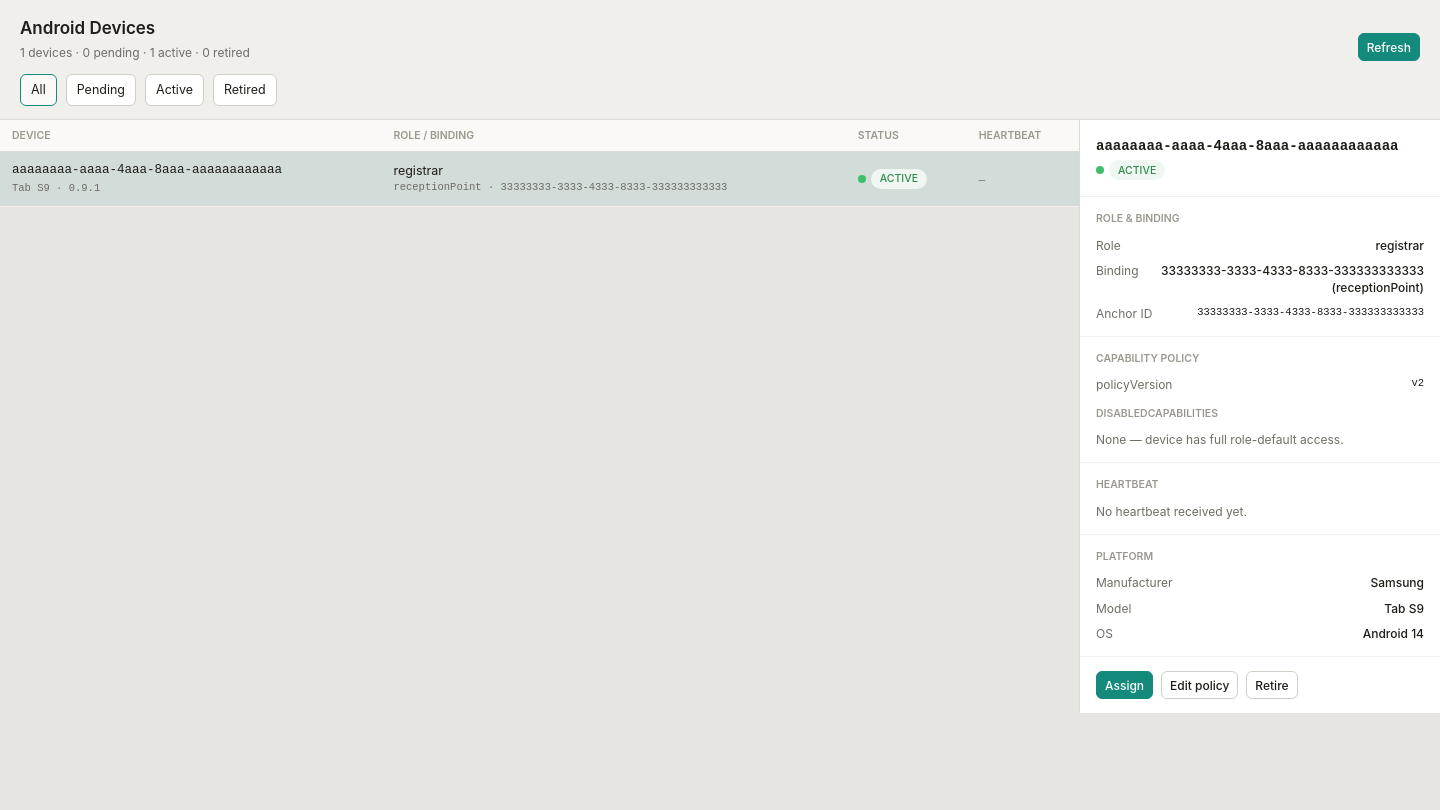
Test: device commands · mock mode › does not touch the network and mutates the local snapshot
This screenshot has width=1440, height=810.
Click the button "Retire": (1272, 685) [1246,671,1298,699]
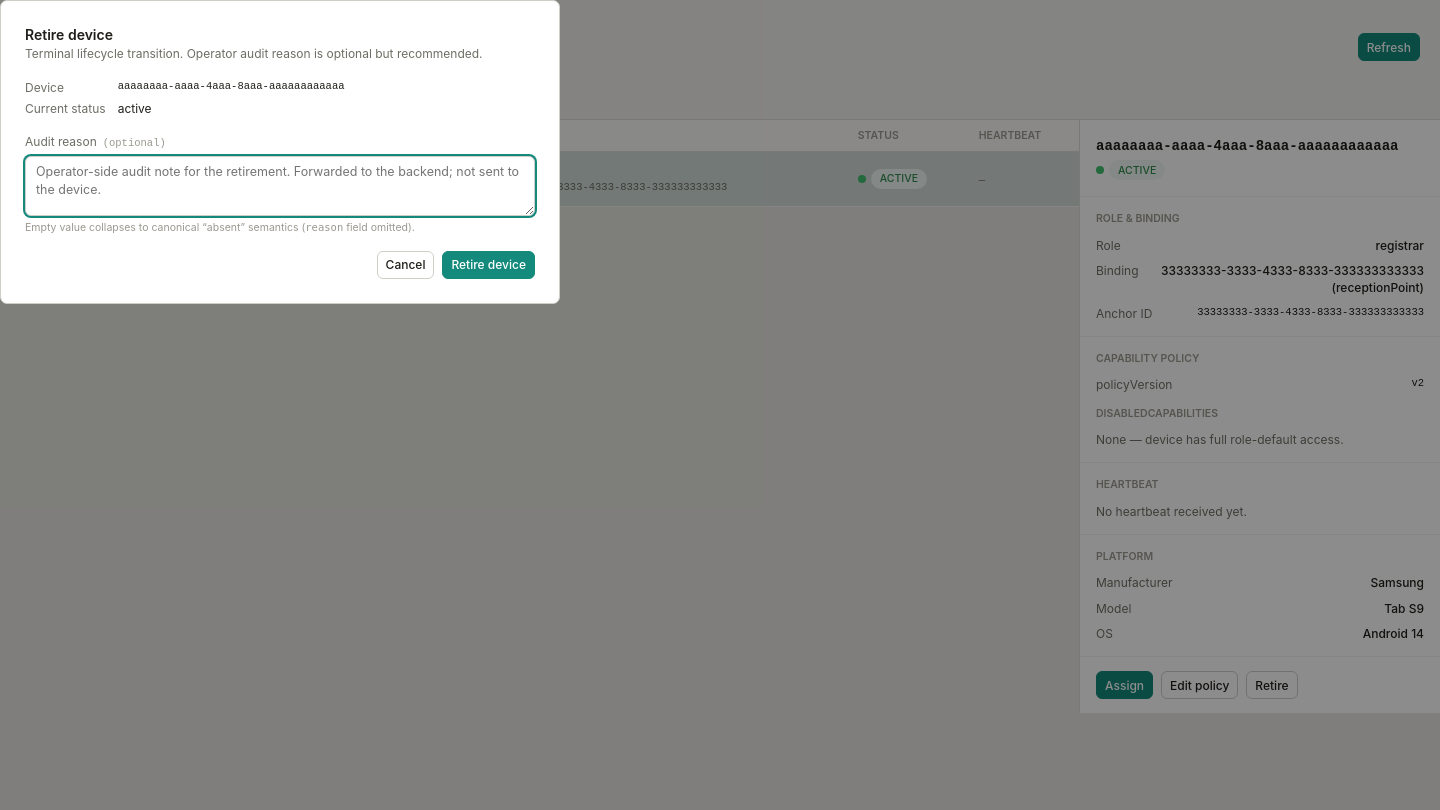
Click the button "Retire device": (489, 265) [442,251,535,279]
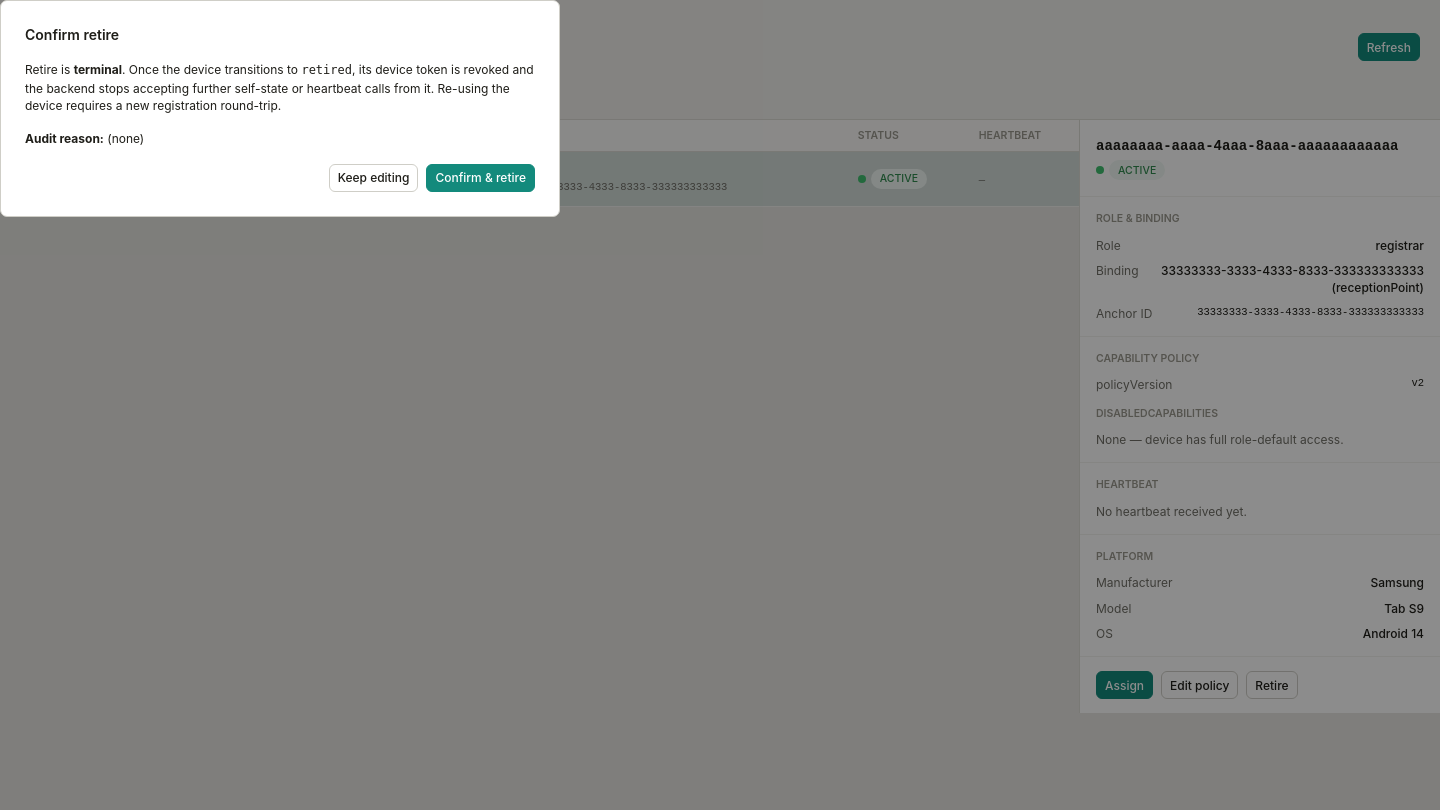
Click the button "Confirm & retire": (481, 178) [426,164,535,192]
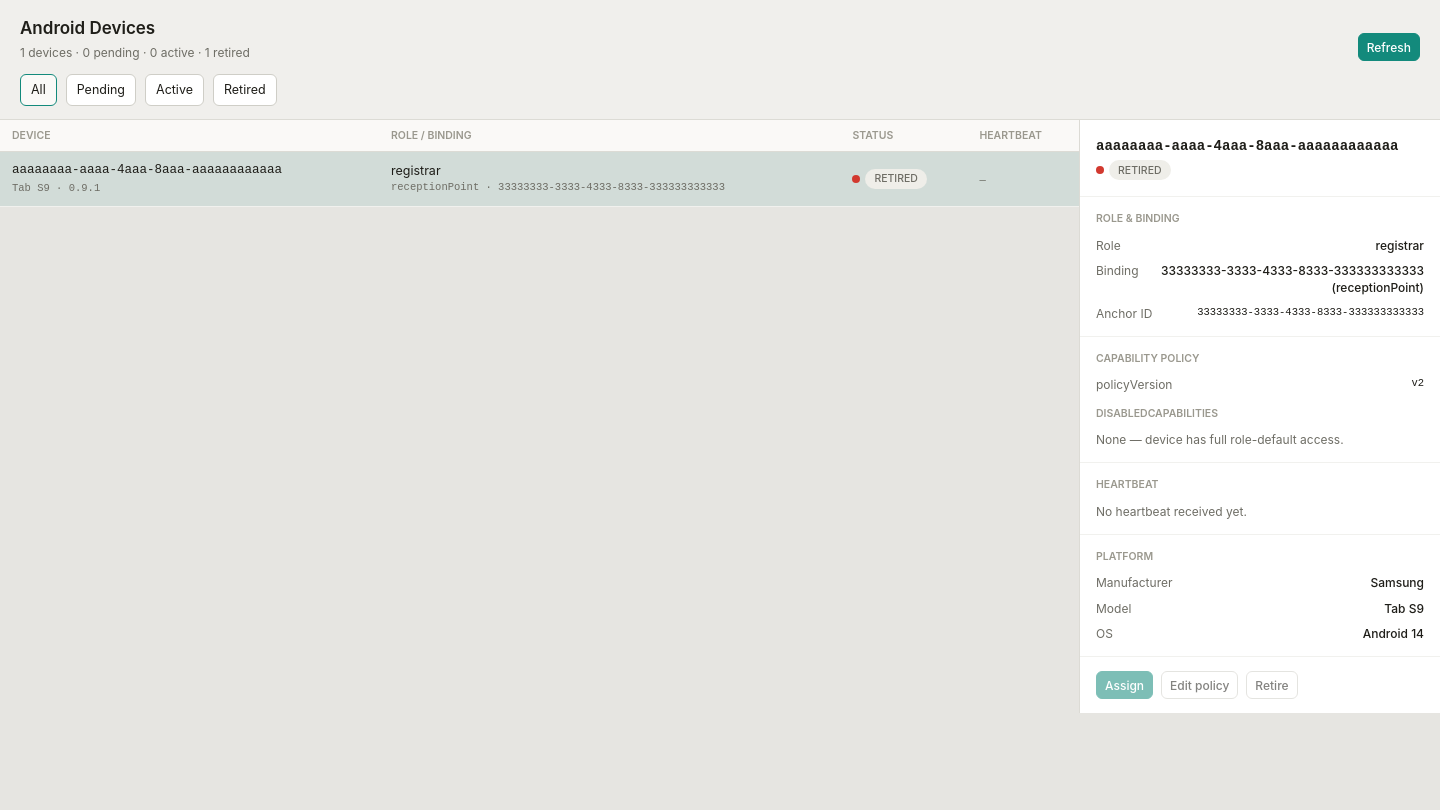
Expected: the text "1 devices · 0 pending · 0 active · 1 retired" is shown, [20,44,250,61]
